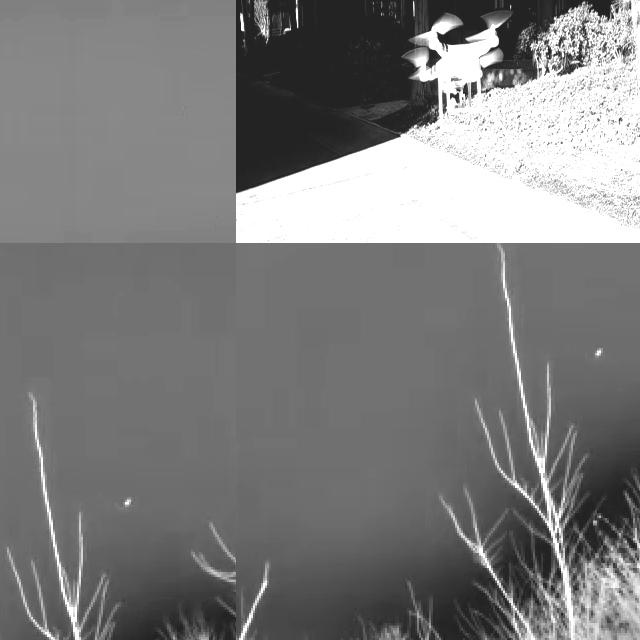0: (113, 490, 139, 520), (584, 340, 610, 370)
drone: (417, 20, 499, 127)
